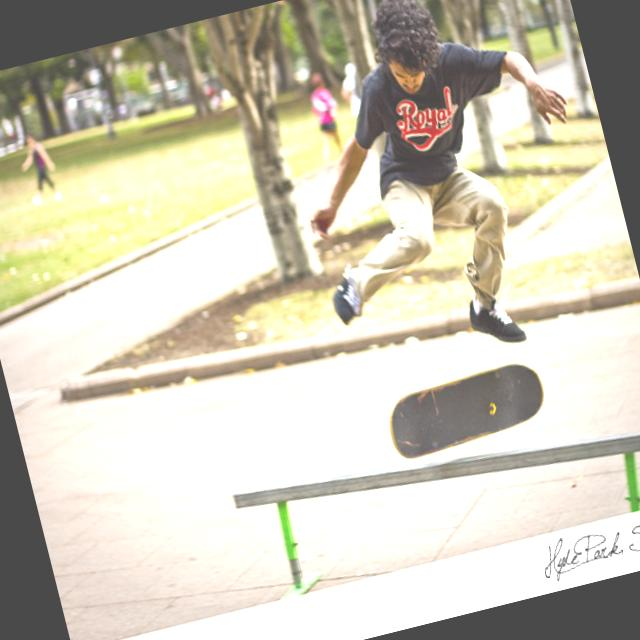Vehicle: (133, 99, 156, 116)
